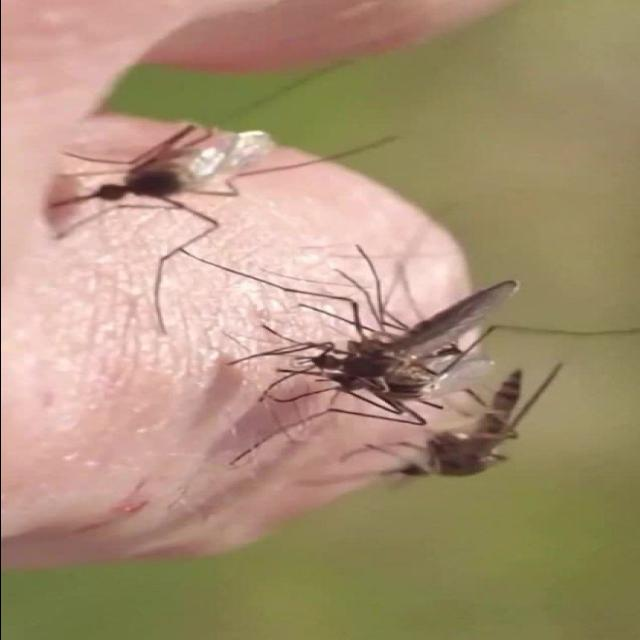Mosquito: (185, 236, 475, 432), (288, 342, 559, 507), (27, 105, 288, 247)
